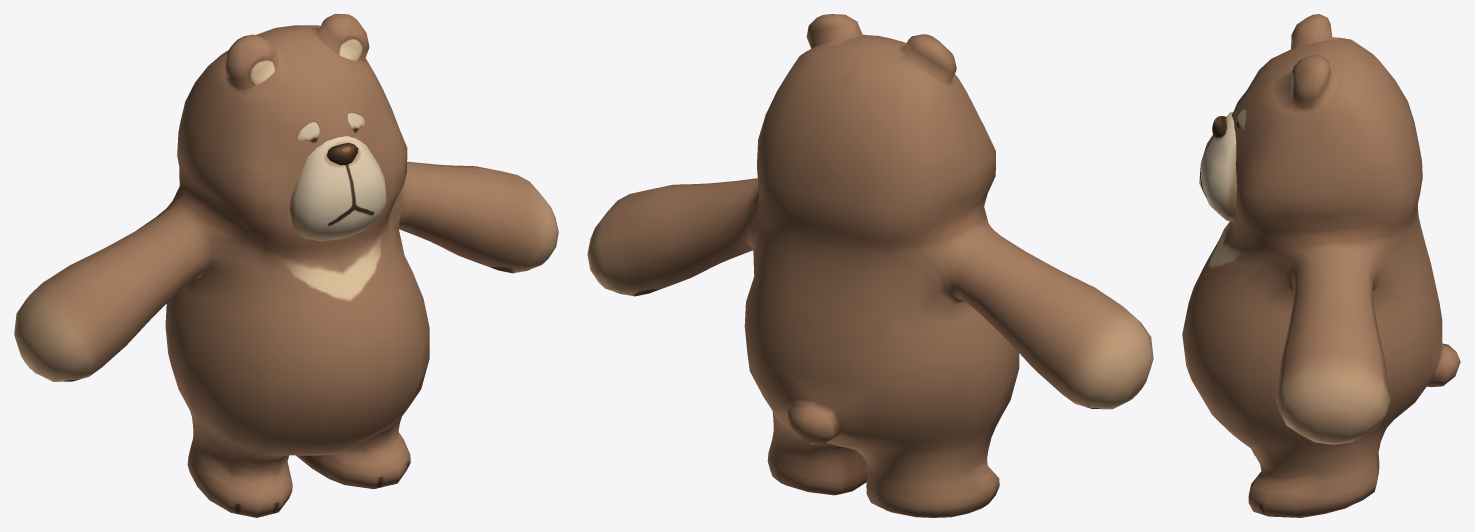
File: bear.fbx
3 renders of one model, left to right at view 1: azimuth 30°, elevation 25°; view 2: azimuth 150°, elevation 25°; view 3: azimuth 270°, elevation 25°, orthographic. The views are drawn at different scales.
Parts seen in each view (by area): view 1: bear; view 2: bear; view 3: bear.
Boxes of the visible parts, x1,y1,x2,y2 form: bear: [14, 14, 558, 517]; bear: [587, 14, 1153, 517]; bear: [1182, 14, 1460, 517].
Bounding box in the file's own units: 212 × 176 × 100.
